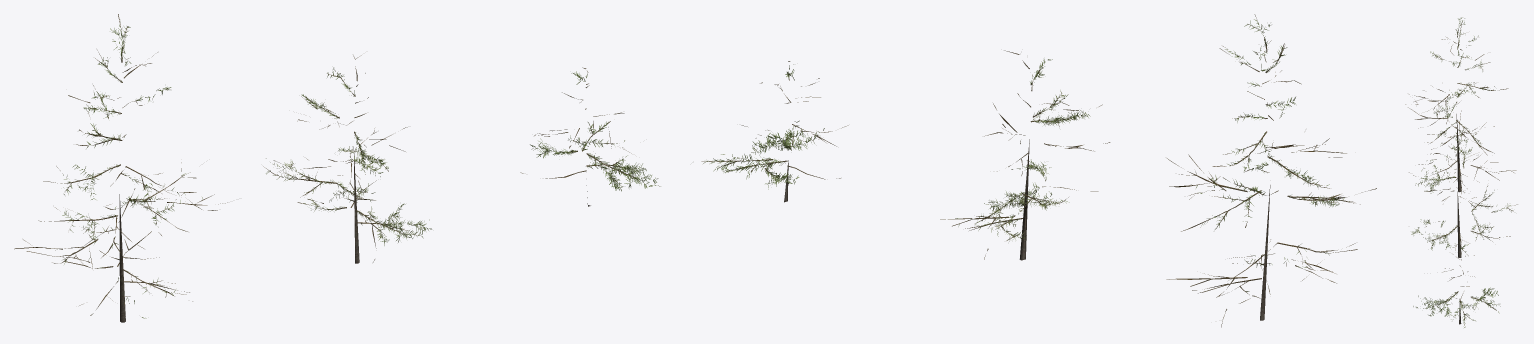
Rendered from fir_sapling.glb.
The picture shows the model from 3 angles, left to right: view 1: azimuth 30°, elevation 25°; view 2: azimuth 150°, elevation 25°; view 3: azimuth 270°, elevation 25°; orthographic projection. The views are drawn at different scales.
Parts seen in each view (by area): view 1: fir_sapling_a, fir_sapling_b, fir_sapling_c; view 2: fir_sapling_a, fir_sapling_b, fir_sapling_c; view 3: fir_sapling_a, fir_sapling_b, fir_sapling_c.
Part boxes in pixels (bbox=[...]): fir_sapling_a: bbox=[14, 14, 227, 322]; fir_sapling_b: bbox=[263, 55, 431, 263]; fir_sapling_c: bbox=[520, 67, 660, 206]; fir_sapling_a: bbox=[1166, 14, 1376, 327]; fir_sapling_b: bbox=[940, 50, 1110, 260]; fir_sapling_c: bbox=[701, 61, 848, 202]; fir_sapling_a: bbox=[1405, 17, 1516, 202]; fir_sapling_b: bbox=[1409, 134, 1517, 259]; fir_sapling_c: bbox=[1413, 241, 1500, 327].
Bounding box in the file's own units: 2.67 × 1.25 × 0.7252.
2 materials, 2 textured.
